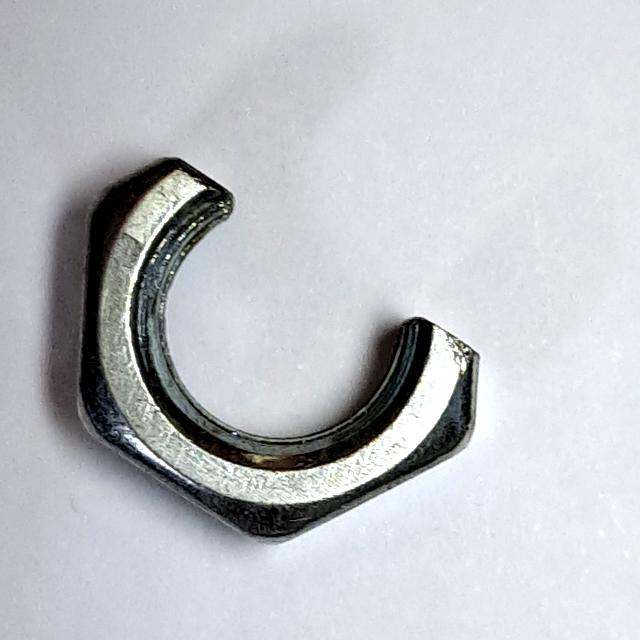Fracture: (59, 145, 497, 564)
